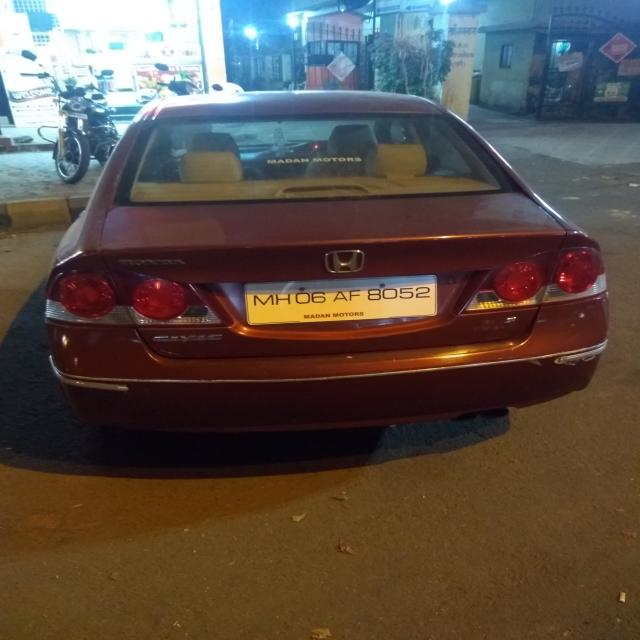Number-Plate: (245, 284, 444, 317)
